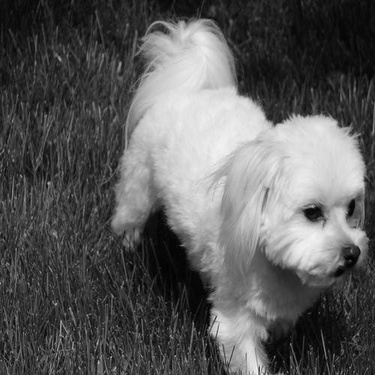dog: (96, 6, 370, 371)
